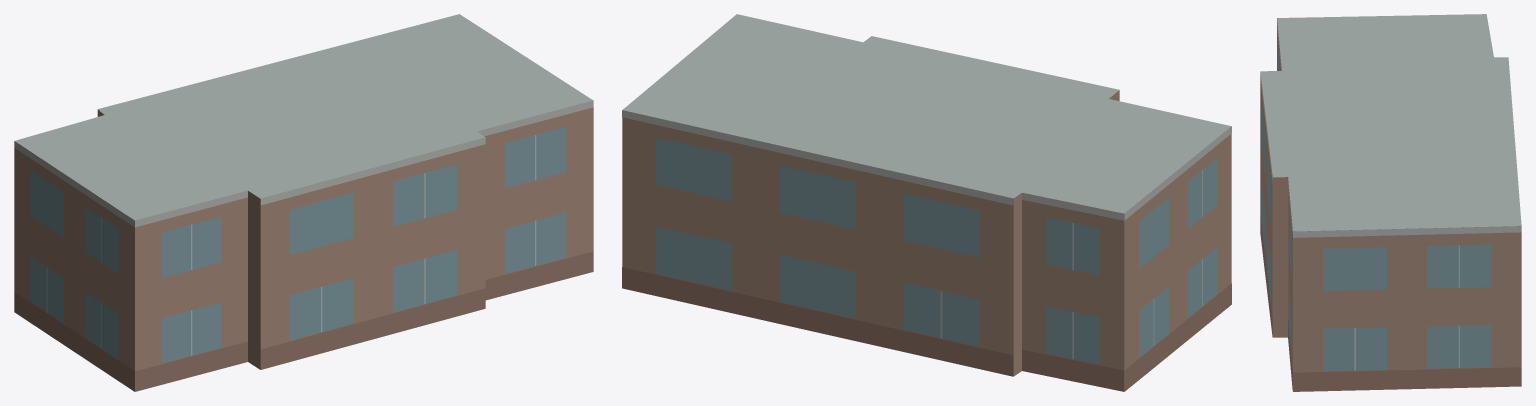
File: survey-upis-32924185.glb
3 renders of one model, left to right at view 1: azimuth 30°, elevation 25°; view 2: azimuth 150°, elevation 25°; view 3: azimuth 270°, elevation 25°, orthographic. The views are drawn at different scales.
Visible parts, largest first — view 1: survey-upis-32924185.tmp; view 2: survey-upis-32924185.tmp; view 3: survey-upis-32924185.tmp.
Part boxes in pixels (bbox=[...]): survey-upis-32924185.tmp: bbox=[14, 14, 593, 391]; survey-upis-32924185.tmp: bbox=[622, 14, 1231, 391]; survey-upis-32924185.tmp: bbox=[1260, 14, 1521, 391].
Size of the model in its own units: 17.74 by 6.1 by 9.02.
